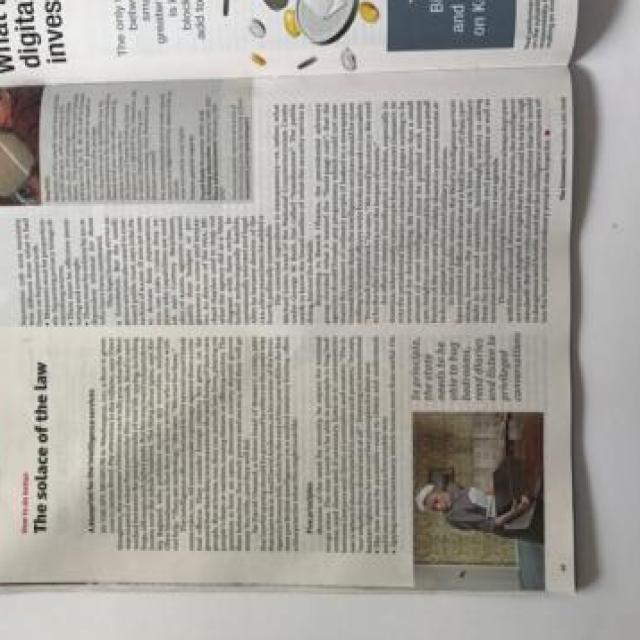organic: (7, 6, 587, 609)
